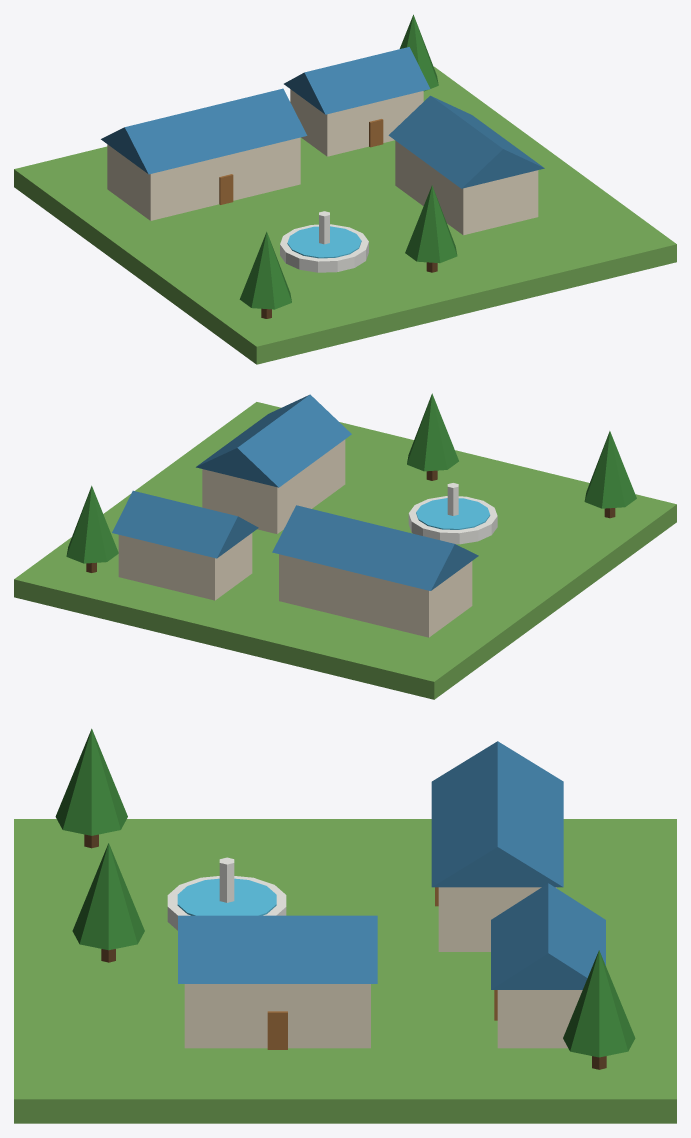
Rendered from tourism_income_3.glb.
3 renders of one model, top to bottom at view 1: azimuth 30°, elevation 25°; view 2: azimuth 150°, elevation 25°; view 3: azimuth 270°, elevation 25°, orthographic. The views are drawn at different scales.
Parts seen in each view (by area): view 1: tourism_income_3; view 2: tourism_income_3; view 3: tourism_income_3.
Part boxes in pixels (x1,y1,x2,y2): tourism_income_3: (14,14,676,364); tourism_income_3: (14,393,676,699); tourism_income_3: (14,728,676,1123).
Bounding box in the file's own units: 1.96 × 0.46 × 1.96.
